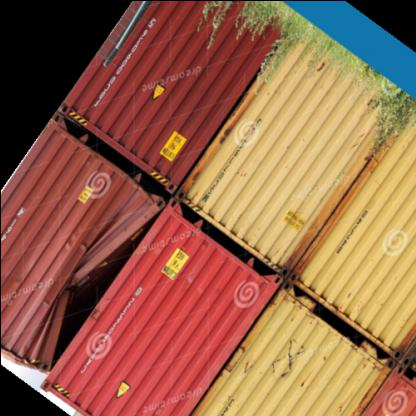Damage: (35, 212, 165, 357)
